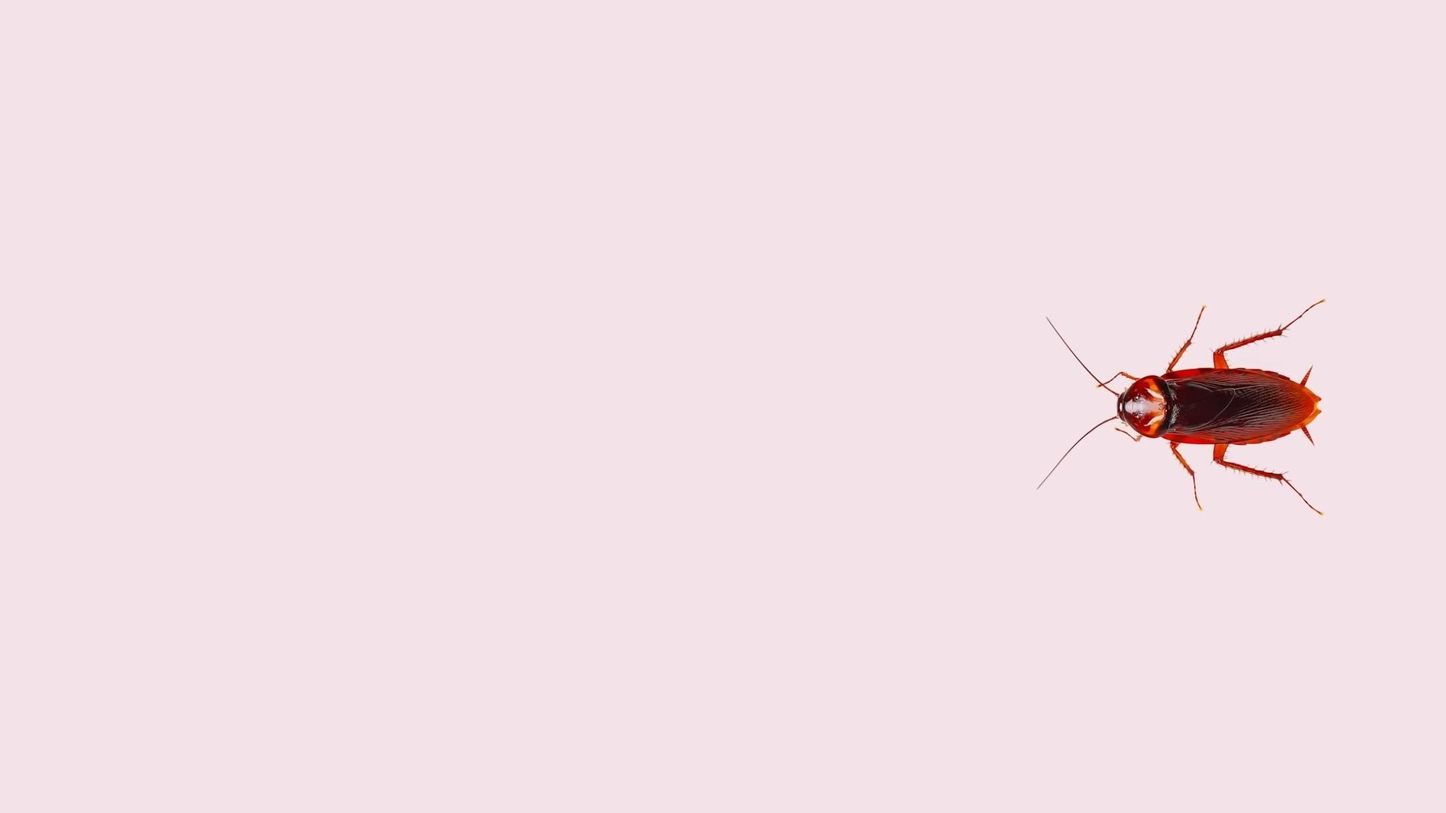cockroach: (1033, 301, 1325, 517)
